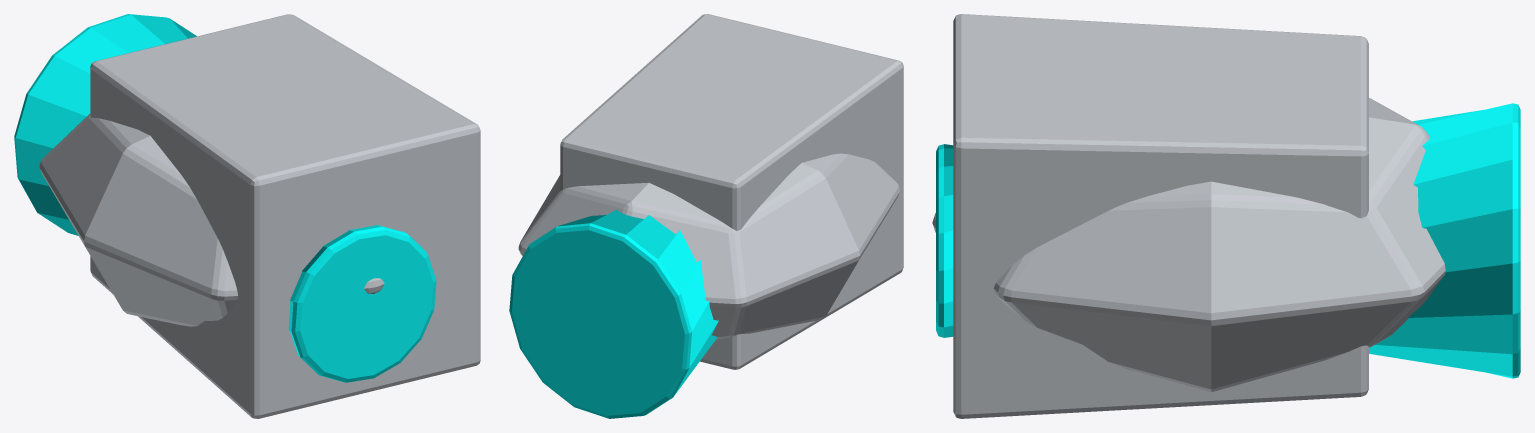
The model's file is Engines_01.glb.
3 views of the same model, side by side, from view 1: azimuth 30°, elevation 25°; view 2: azimuth 150°, elevation 25°; view 3: azimuth 270°, elevation 25° (orthographic). The views are drawn at different scales.
Parts seen in each view (by area): view 1: Engines_01_gltf_export_temp; view 2: Engines_01_gltf_export_temp; view 3: Engines_01_gltf_export_temp.
Part boxes in pixels (box(x1,y1,x2,y2)): Engines_01_gltf_export_temp: box(14, 14, 480, 418); Engines_01_gltf_export_temp: box(509, 14, 903, 418); Engines_01_gltf_export_temp: box(932, 14, 1520, 418).
Bounding box in the file's own units: 0.6878 × 0.486 × 0.8761.
